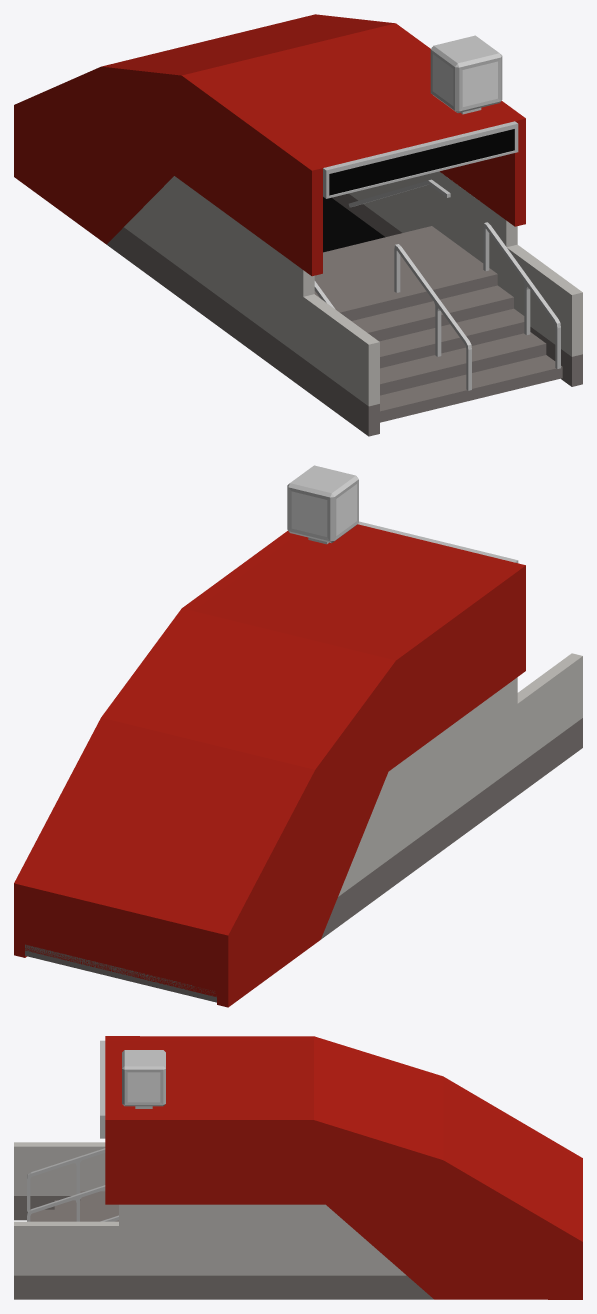
File: MTR_R.fbx
The picture shows the model from 3 angles, top to bottom: view 1: azimuth 30°, elevation 25°; view 2: azimuth 150°, elevation 25°; view 3: azimuth 270°, elevation 25°; orthographic projection. The views are drawn at different scales.
Visible parts, largest first — view 1: MTR_LOD0; view 2: MTR_LOD0; view 3: MTR_LOD0.
Boxes of the visible parts, box(x1,y1,x2,y2) form: MTR_LOD0: box(14, 14, 582, 436); MTR_LOD0: box(14, 465, 582, 1007); MTR_LOD0: box(14, 1036, 582, 1299).
Size of what is drawn, in the model's own units: 23.45 by 29.74 by 67.28.
